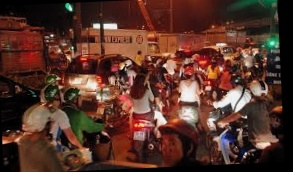Bien-so: (136, 133, 148, 144)
